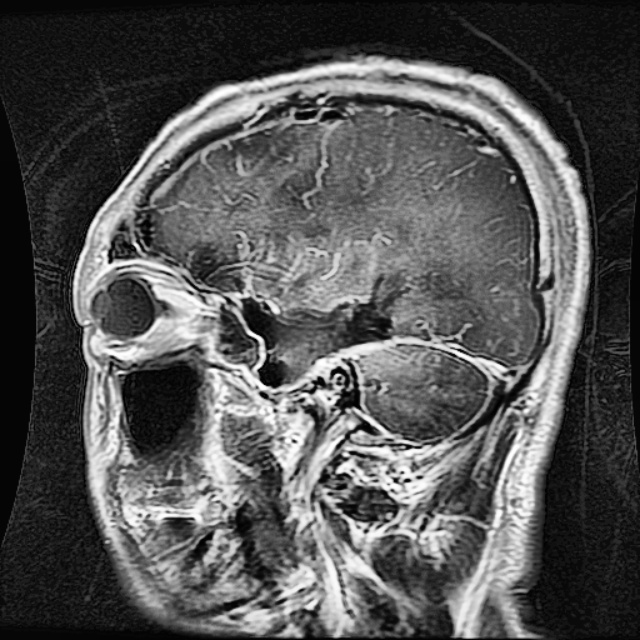Meningioma: (230, 292, 393, 385)
